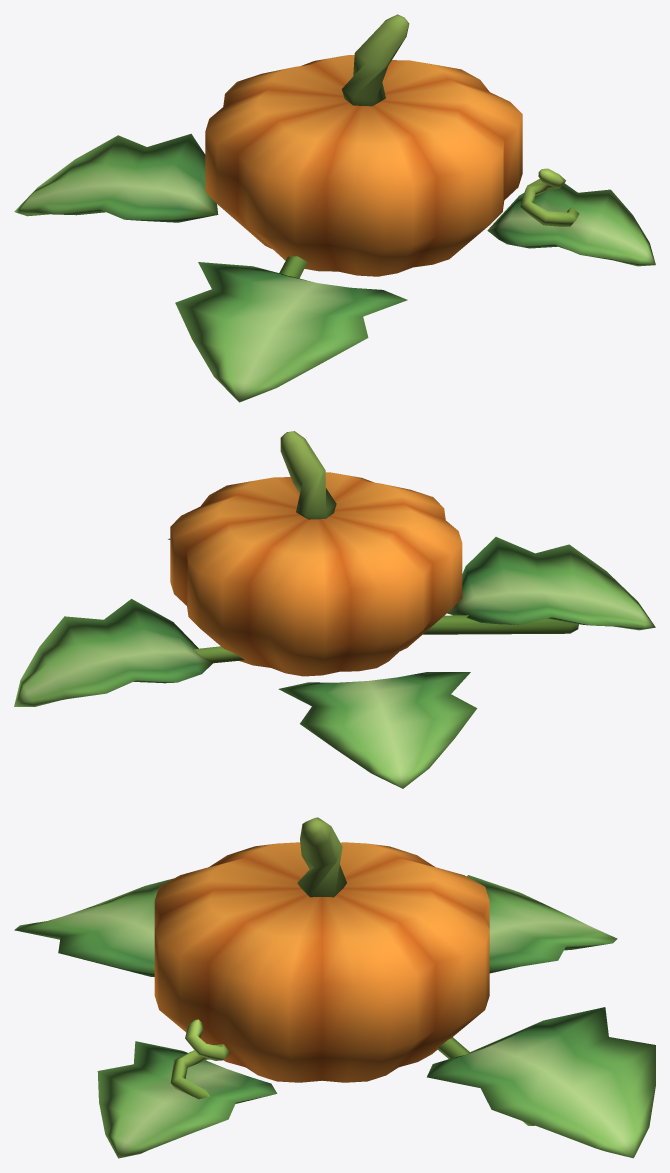
The model's file is prop-crop-pumpkin-ripe.glb.
The picture shows the model from 3 angles, top to bottom: view 1: azimuth 30°, elevation 25°; view 2: azimuth 150°, elevation 25°; view 3: azimuth 270°, elevation 25°; orthographic projection. The views are drawn at different scales.
Parts seen in each view (by area): view 1: body, leaf; view 2: body, leaf; view 3: body, leaf.
Boxes of the visible parts, bbox=[...] form: body: bbox=[205, 14, 522, 276]; leaf: bbox=[14, 133, 655, 402]; body: bbox=[170, 431, 462, 676]; leaf: bbox=[14, 537, 655, 788]; body: bbox=[154, 817, 489, 1082]; leaf: bbox=[14, 875, 655, 1158].
Bounding box in the file's own units: 0.8955 × 0.4311 × 0.9776.
